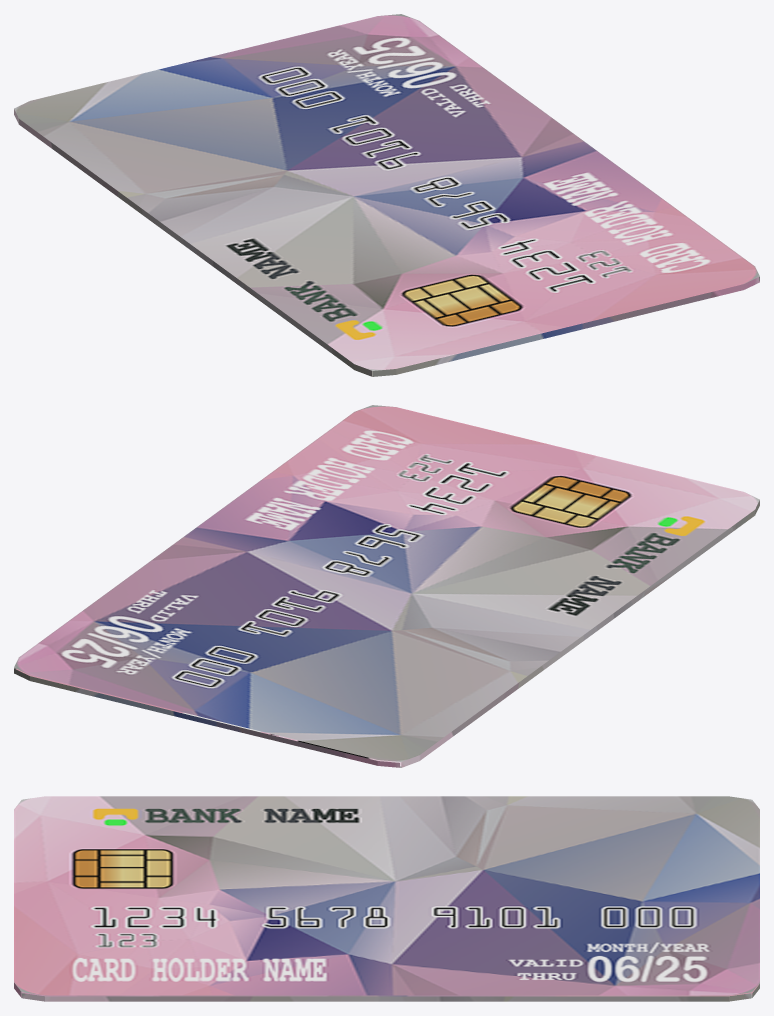
The model's file is Creditcard.fbx.
3 renders of one model, top to bottom at view 1: azimuth 30°, elevation 25°; view 2: azimuth 150°, elevation 25°; view 3: azimuth 270°, elevation 25°, orthographic.
Visible parts, largest first — view 1: Box001; view 2: Box001; view 3: Box001.
Boxes of the visible parts, <box> form: Box001: <box>14,14,759,376</box>; Box001: <box>14,405,759,767</box>; Box001: <box>14,796,759,1001</box>.
Bounding box in the file's own units: 29.68 × 0.4227 × 46.98.
1 material, 1 textured.
